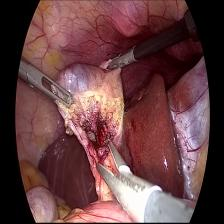Grasper: (95, 139, 157, 222), (18, 59, 73, 111), (104, 46, 140, 72)
